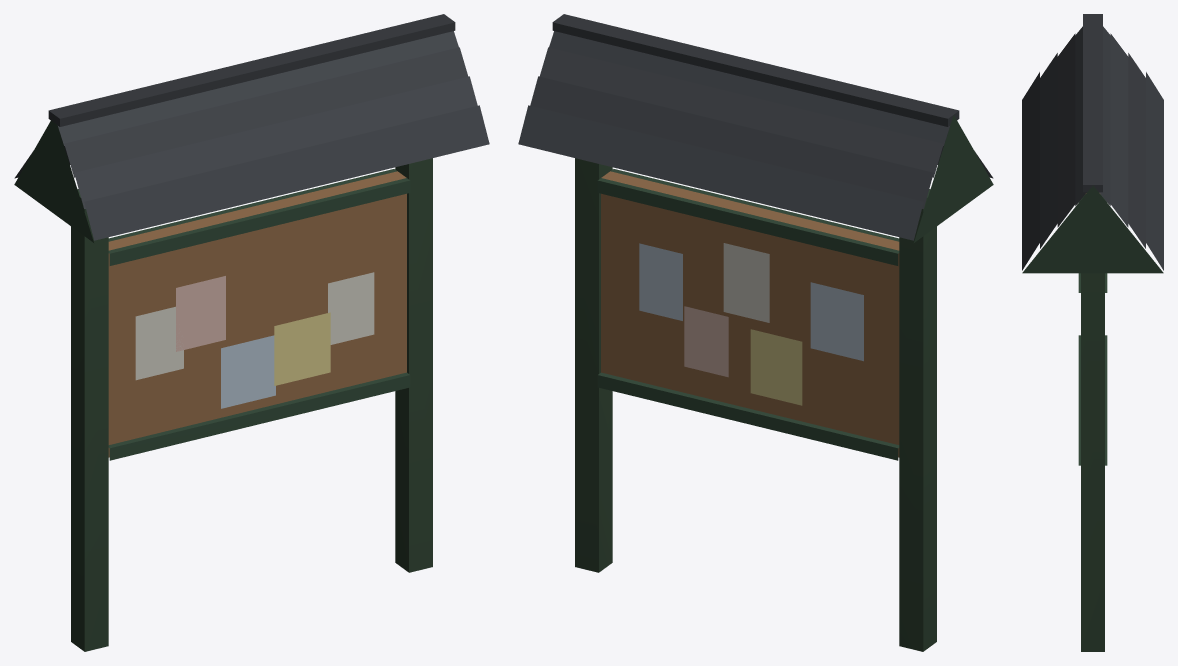
The model's file is board.notice.green.glb.
The picture shows the model from 3 angles, left to right: view 1: azimuth 30°, elevation 25°; view 2: azimuth 150°, elevation 25°; view 3: azimuth 270°, elevation 25°; orthographic projection. The views are drawn at different scales.
Visible parts, largest first — view 1: board_notice_green; view 2: board_notice_green; view 3: board_notice_green.
Part boxes in pixels (x1,y1,x2,y2): board_notice_green: (14,14,489,651); board_notice_green: (518,14,993,651); board_notice_green: (1022,14,1163,651).
Size of what is drawn, in the model's own units: 2 by 2.6 by 0.7.
